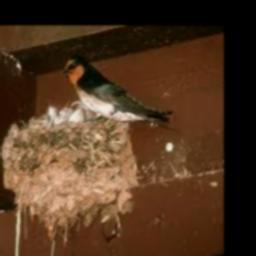Swallow: (63, 56, 172, 124)
